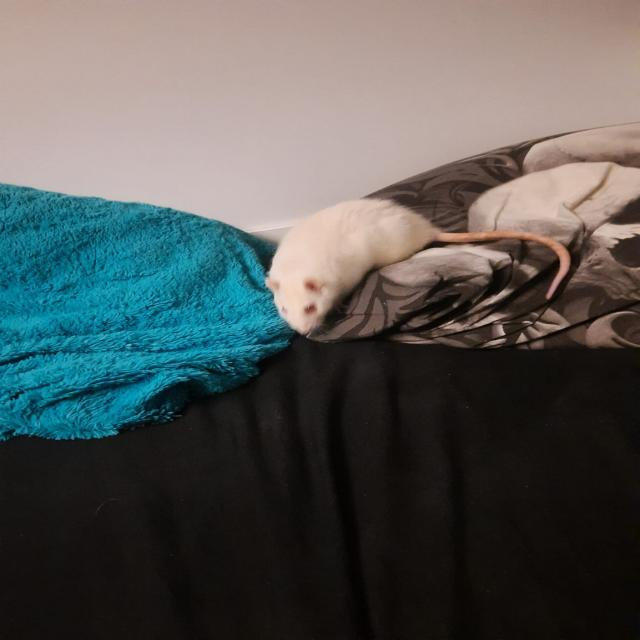rat: (265, 199, 441, 336)
